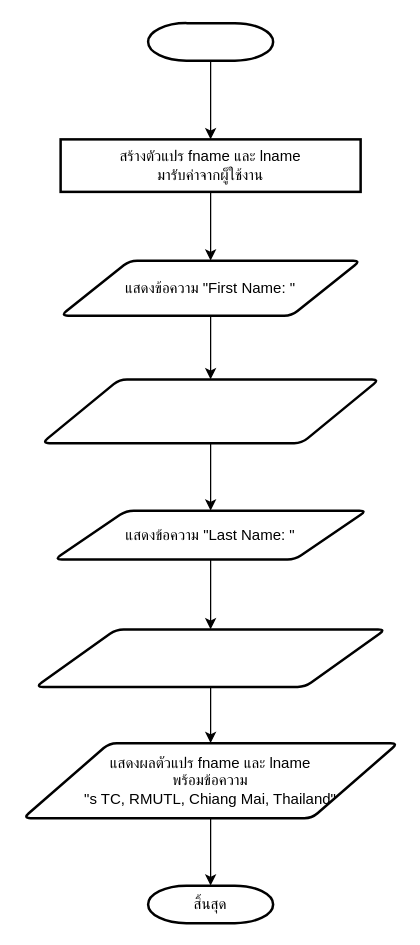
Image size: 420x945. Some labels were removed from this diagram. The shapes that lost their labels are listed below. From the top down, each one's box as (x1, y1, x2, y2) in pixels, then its label:
(146, 21, 274, 61): เริ่มต้น
(40, 378, 380, 444): รับค่า fname จากผู้ใช้งาน เพื่อเอามาแสดงชื่อจริงผู้ใช้งาน
(34, 628, 386, 688): รับค่า lname จากผู้ใช้งาน เพื่อเอามาแสดงชื่อจริงผู้ใช้งาน
